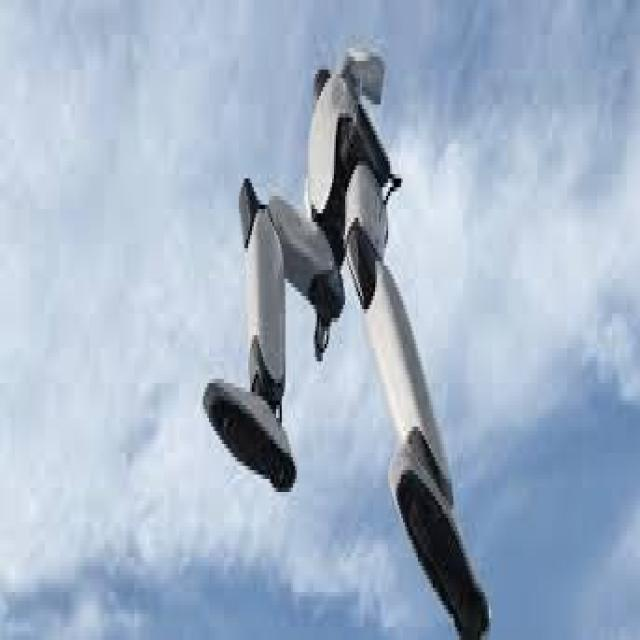humanoid-leg: (362, 268, 485, 628), (201, 174, 292, 483)
